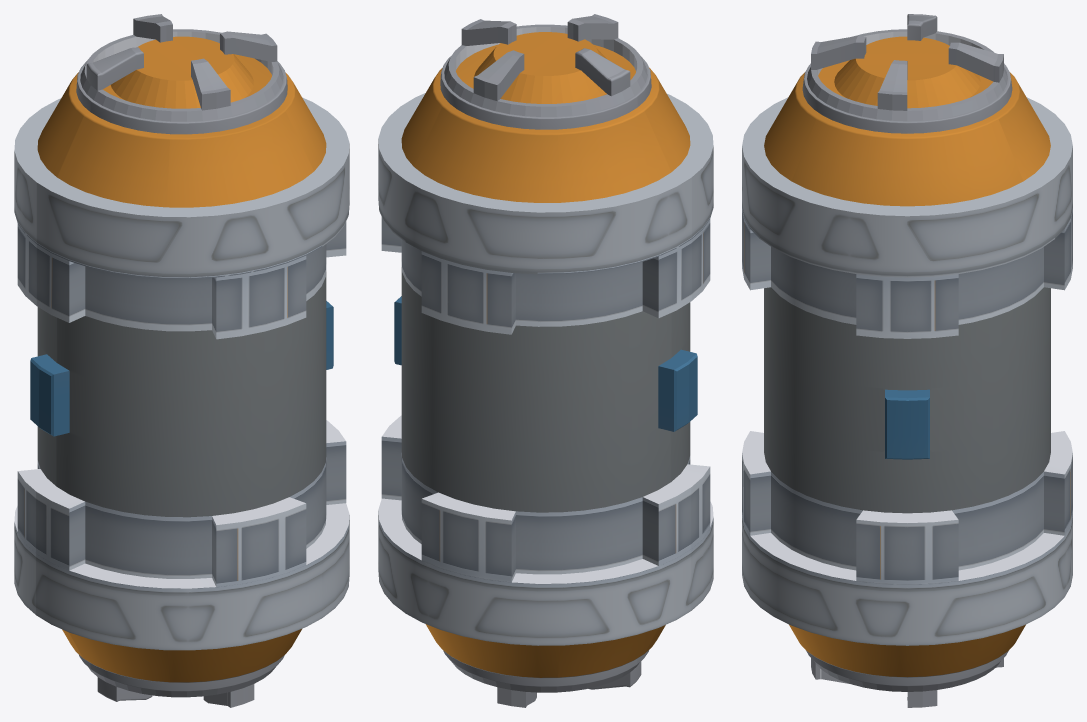
File: Canister.fbx
3 renders of one model, left to right at view 1: azimuth 30°, elevation 25°; view 2: azimuth 150°, elevation 25°; view 3: azimuth 270°, elevation 25°, orthographic.
Parts seen in each view (by area): view 1: canister; view 2: canister; view 3: canister.
Part boxes in pixels (x1=…): canister: x1=14, y1=14, x2=349, y2=707; canister: x1=378, y1=14, x2=713, y2=707; canister: x1=742, y1=14, x2=1072, y2=707.
Bounding box in the file's own units: 24.19 × 50.94 × 24.01.
Materials: 1 (1 with a texture image).
